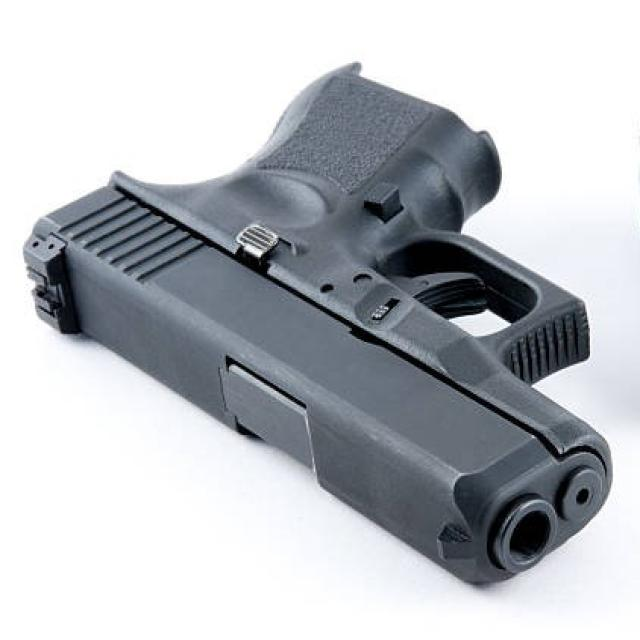pistol: (20, 47, 622, 595)
